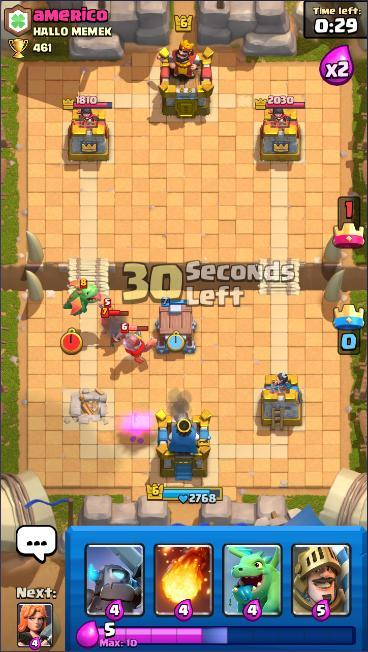ally_goblin_cage: (151, 296, 203, 356)
enemy_baby_dragon: (60, 275, 100, 317)
enemy_knight: (116, 319, 157, 366)
enemy_musketeer: (100, 306, 133, 348)
enemy_valkyrie: (97, 296, 123, 335)
